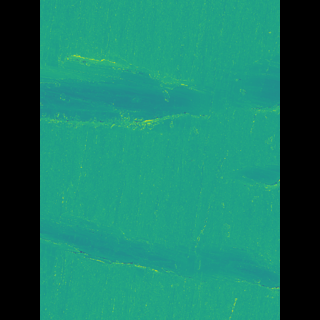Loch: (70, 208, 250, 319), (69, 31, 250, 134), (208, 158, 250, 191)
